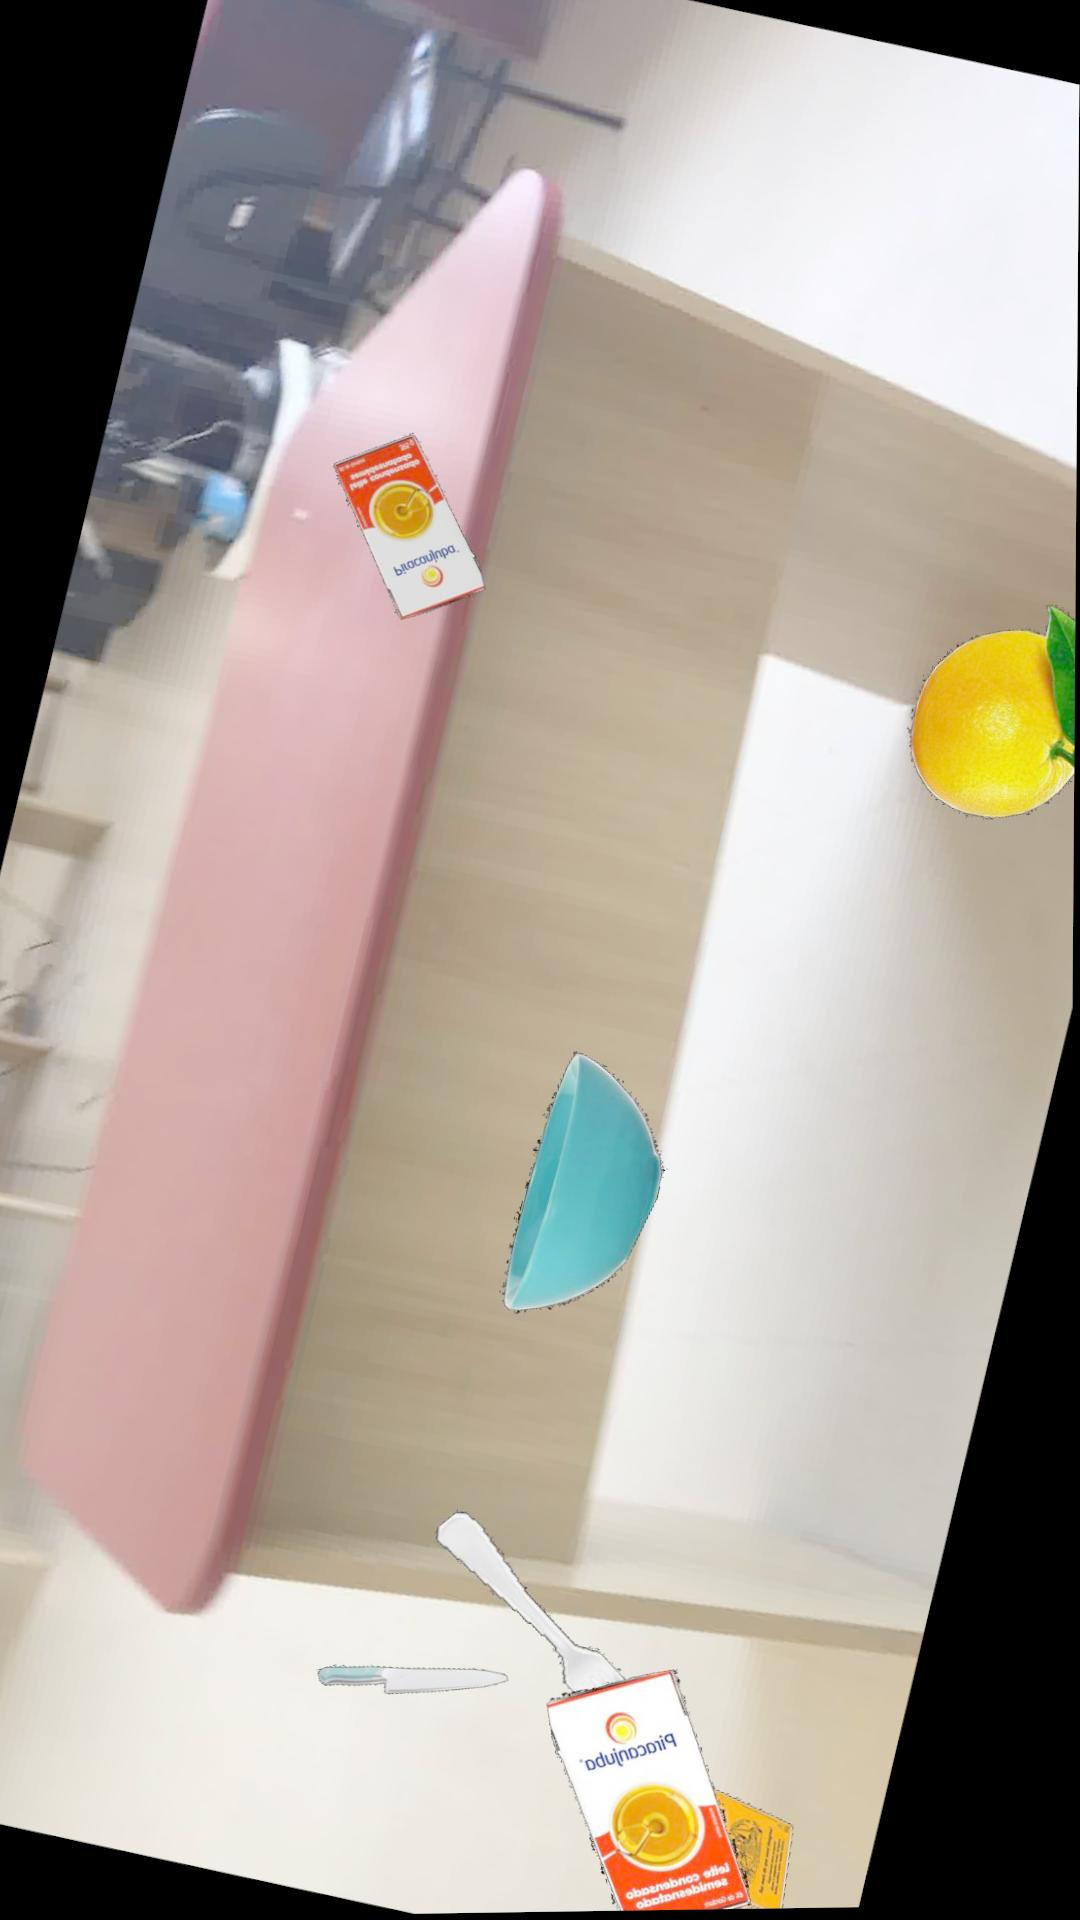bowl: (505, 1052, 669, 1313)
fork: (439, 1510, 629, 1691)
knife: (322, 1664, 512, 1693)
orange: (911, 607, 1076, 819)
